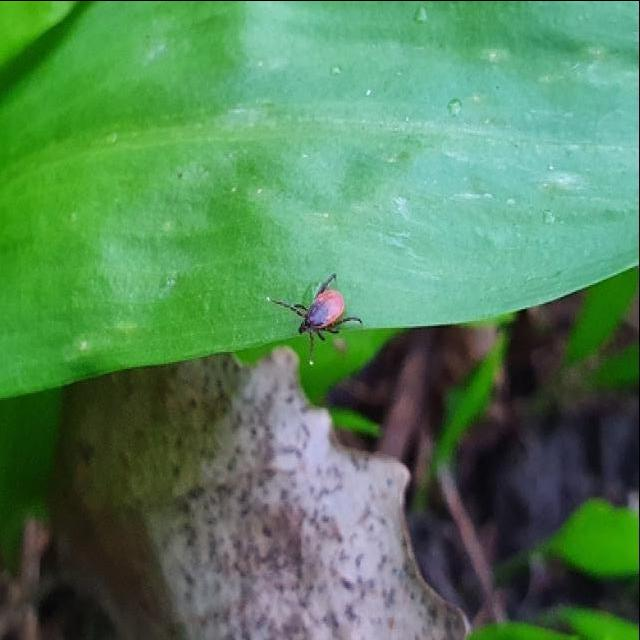Ixodes Ricinus-F: (268, 274, 365, 364)
